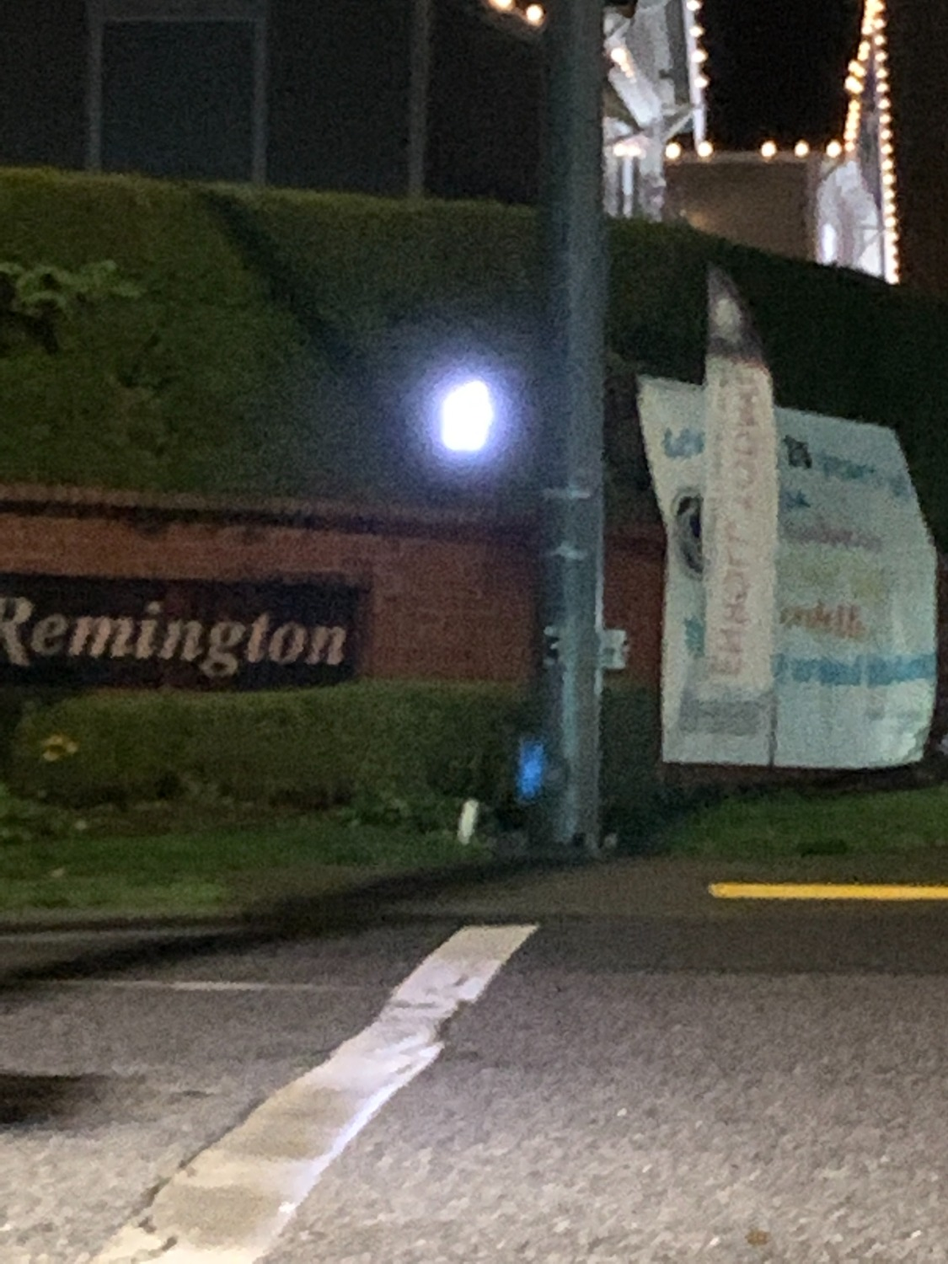crosswalk: (276, 908, 947, 1263)
pedestrian_walk: (432, 378, 509, 461)
pole: (534, 0, 607, 851)
